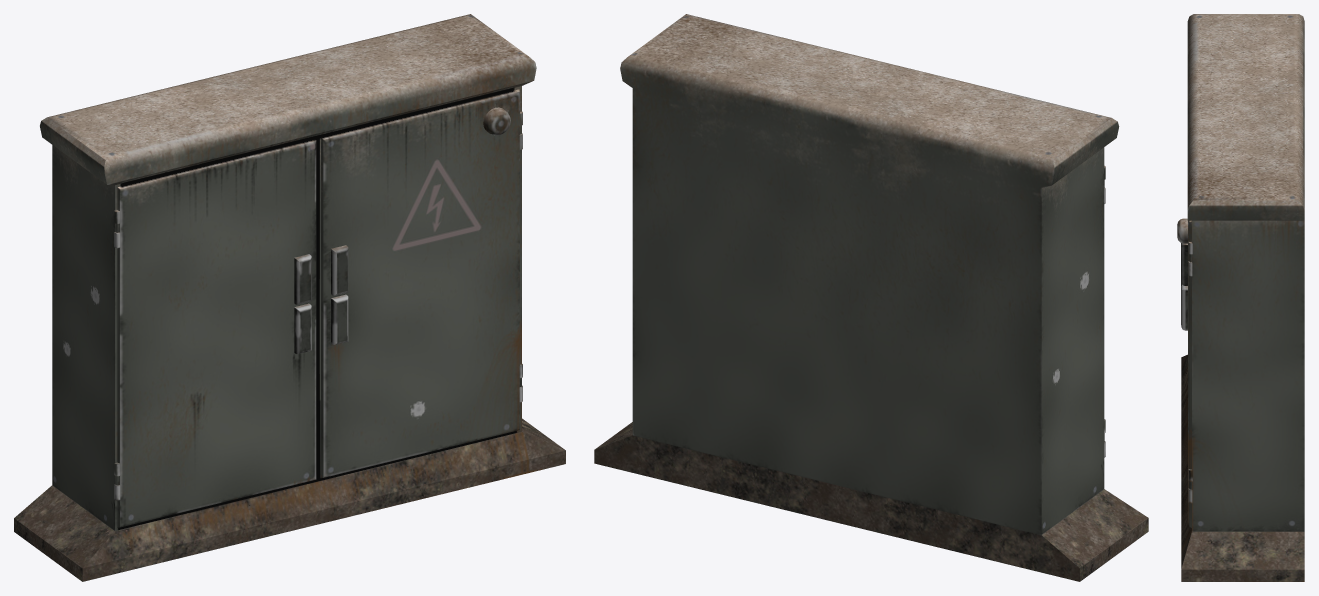
The model's file is electrical-box.glb.
3 renders of one model, left to right at view 1: azimuth 30°, elevation 25°; view 2: azimuth 150°, elevation 25°; view 3: azimuth 270°, elevation 25°, orthographic. The views are drawn at different scales.
Visible parts, largest first — view 1: g; view 2: g; view 3: g.
Boxes of the visible parts, <box> form: g: <box>14,14,565,581</box>; g: <box>594,14,1148,581</box>; g: <box>1177,14,1304,581</box>.
Size of the model in its own units: 2 by 1.63 by 0.5072.
Materials: 1 (1 with a texture image).
